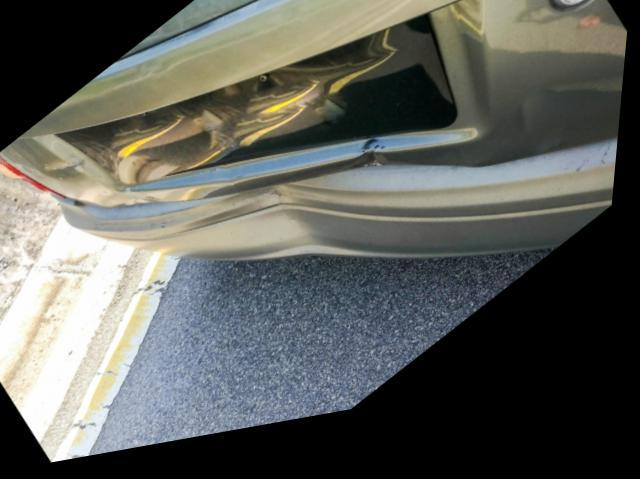dent: (202, 198, 320, 262)
